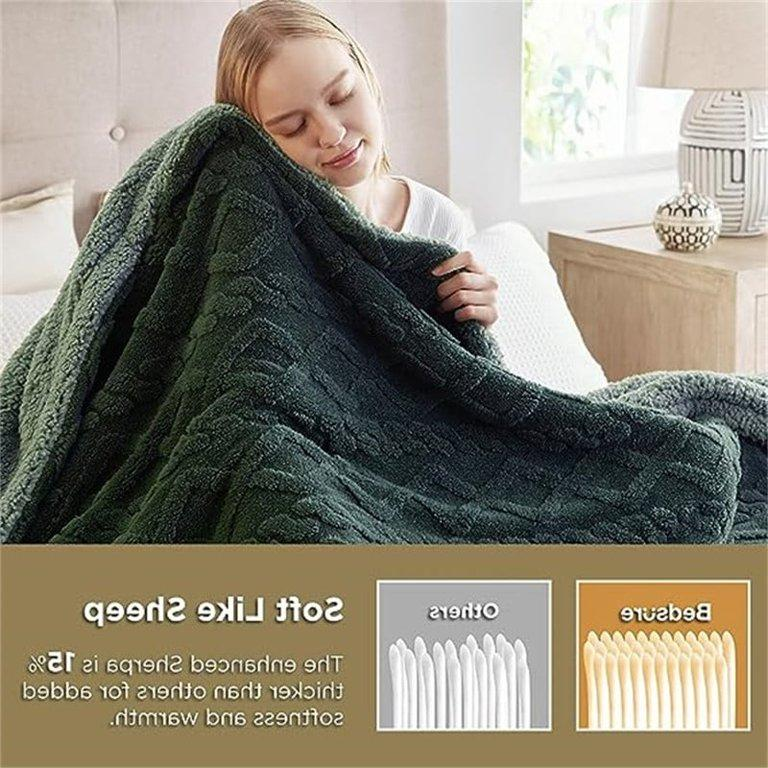blanket: (0, 102, 768, 543)
